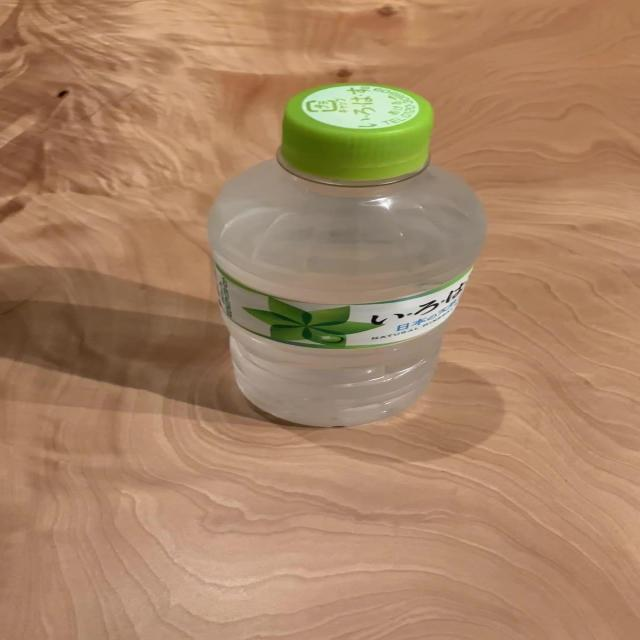good: (203, 80, 487, 430)
